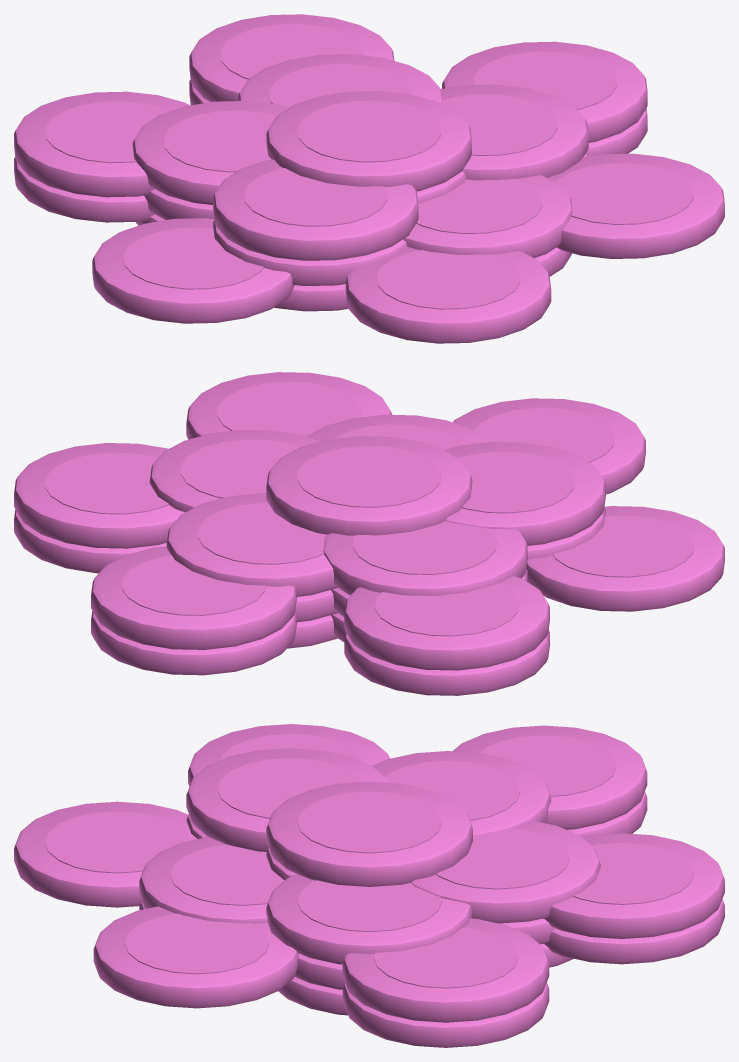
File: Item_CoinsHuge.fbx
3 views of the same model, one above another, from view 1: azimuth 30°, elevation 25°; view 2: azimuth 150°, elevation 25°; view 3: azimuth 270°, elevation 25° (orthographic).
Parts seen in each view (by area): view 1: Coins; view 2: Coins; view 3: Coins.
Part boxes in pixels (left/top/right/bottom): Coins: left=14, top=14, right=724, bottom=343; Coins: left=14, top=372, right=724, bottom=695; Coins: left=14, top=724, right=724, bottom=1047.
Size of the model in its own units: 6.77 by 1.08 by 6.88.
Materials: 1 (1 with a texture image).
